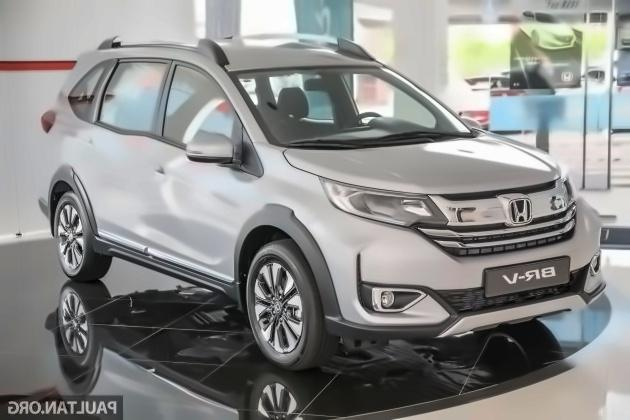Car hood: (275, 131, 583, 196)
Driver-s door - -F-R-: (150, 41, 250, 303)
Front bumper: (302, 193, 622, 341)
Headlight - -R-: (314, 173, 449, 232)
Passenger-s door - -R-R-: (85, 43, 170, 263)
Rear bumper: (31, 132, 65, 225)
Rear light - -R-: (37, 107, 59, 138)
Side mirror - -R-: (83, 222, 245, 315), (183, 128, 238, 167)
